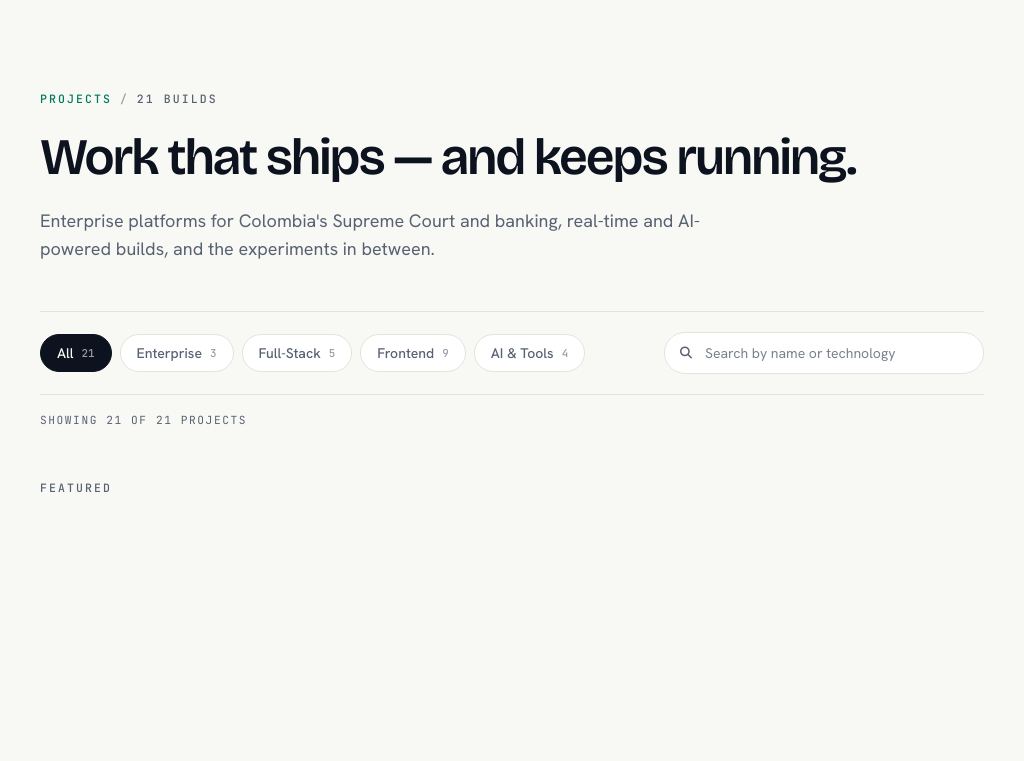
Test case: PortfolioPage › filters by category
What coordinates should you click on to do the following:
click the button "AI & Tools 4"
I would click on:
 (529, 353)
Its box is [474, 334, 585, 372].
(page scrolled)
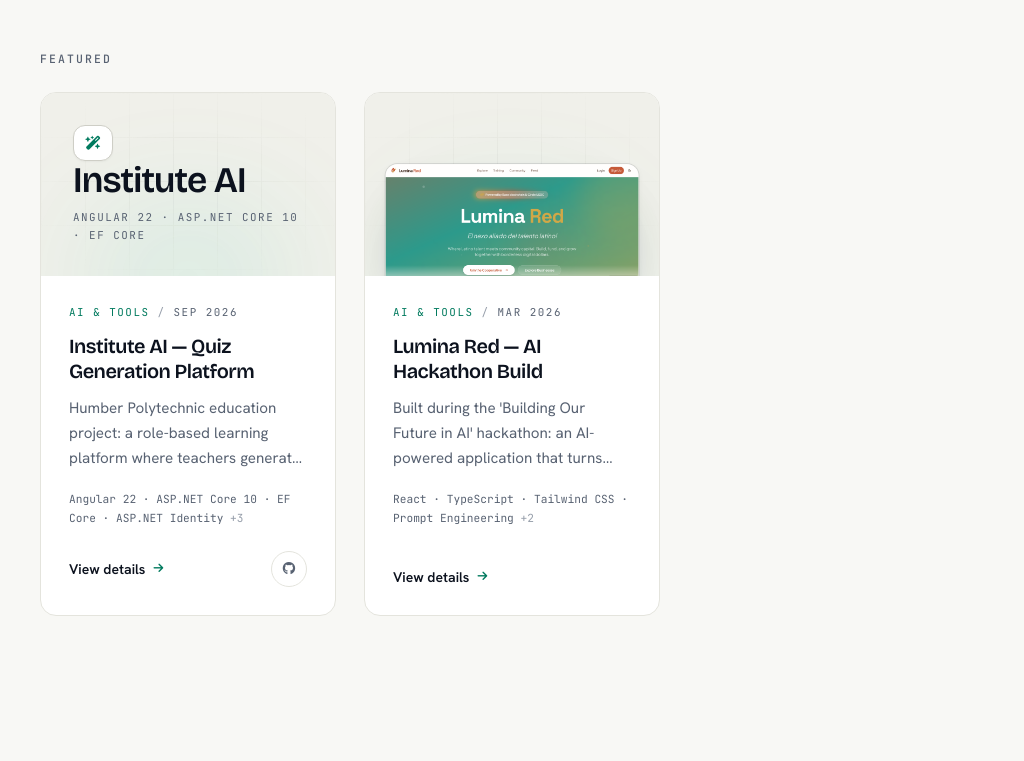
Result: the button "Institute AI — Quiz Generation Platform" is shown at [69, 334, 307, 384]
